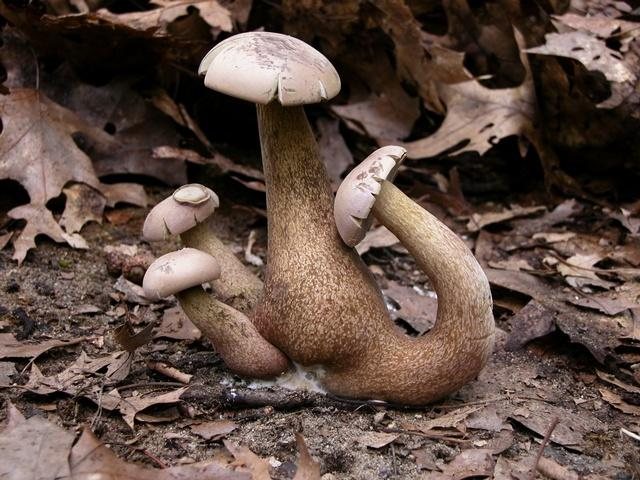Non-edible Mushroom: (141, 29, 497, 407)
